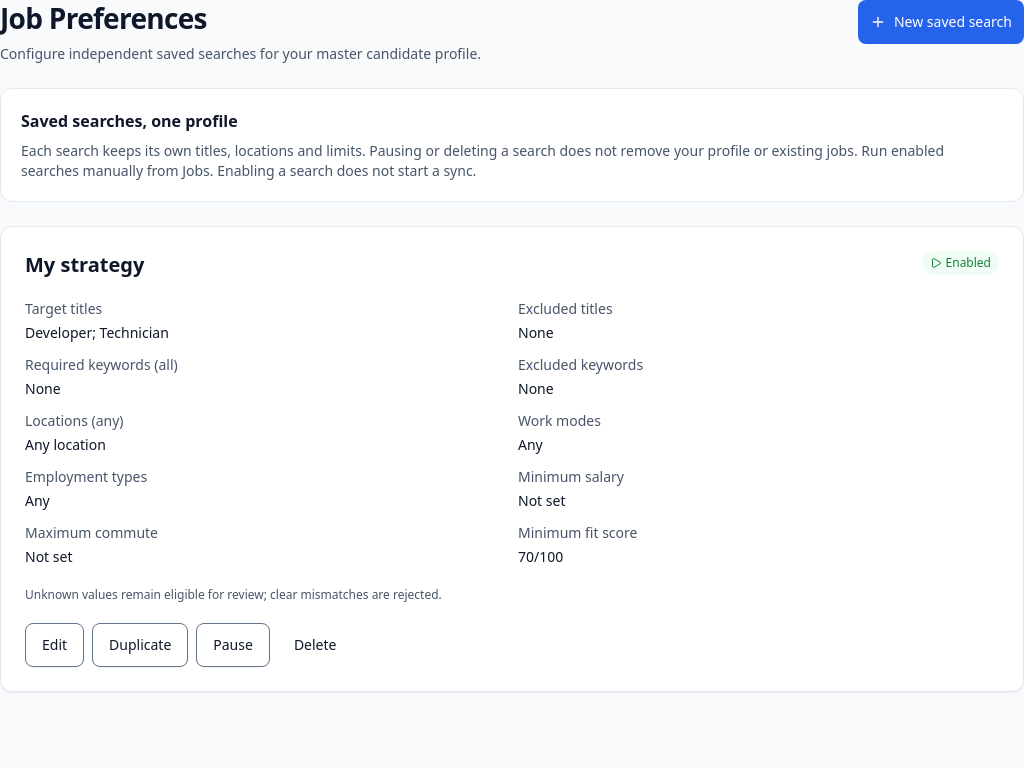
Scenario: confirms deletion and leaves prior state on failure
This screenshot has width=1024, height=768.
Click the button with aria-label "Delete My strategy": (315, 645) [278,623,352,667]
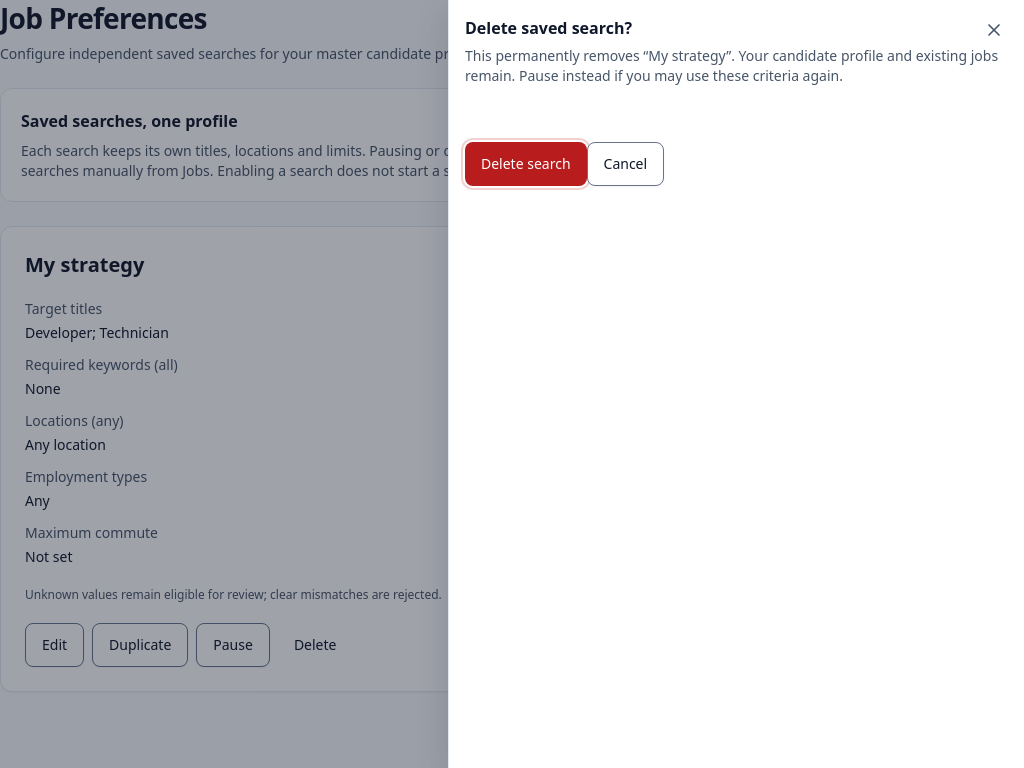
Click the button "Delete search": (526, 164) [465,142,586,186]
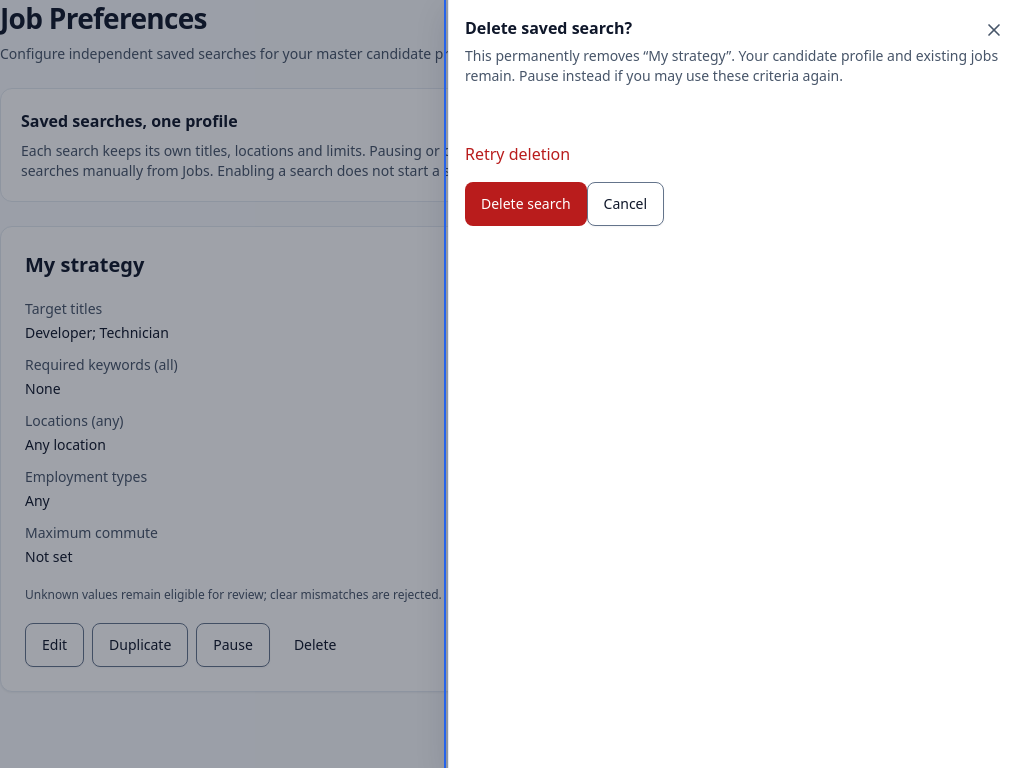
Result: the message reads "Retry deletion" at [465,143,570,165]
